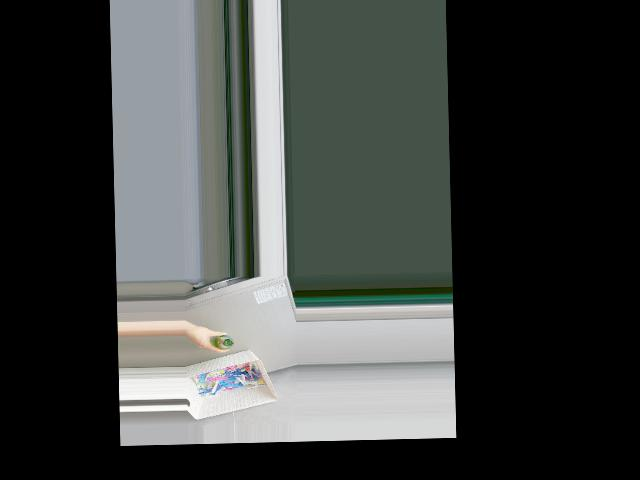beer: (212, 334, 234, 349)
